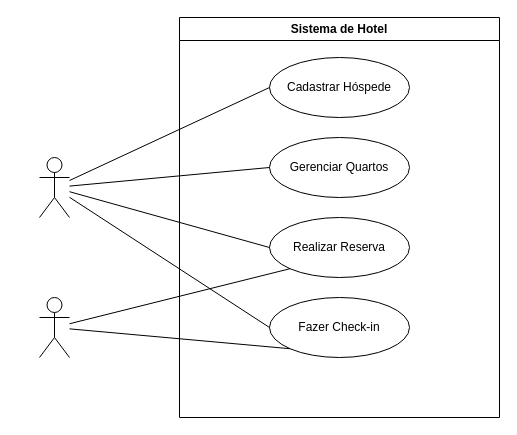
Image size: 517x435. Some labels were removed from this diagram. Each missing label, with the box of its shape:
Hóspede: (38, 296, 70, 358)
Recepcionista: (38, 156, 70, 218)
